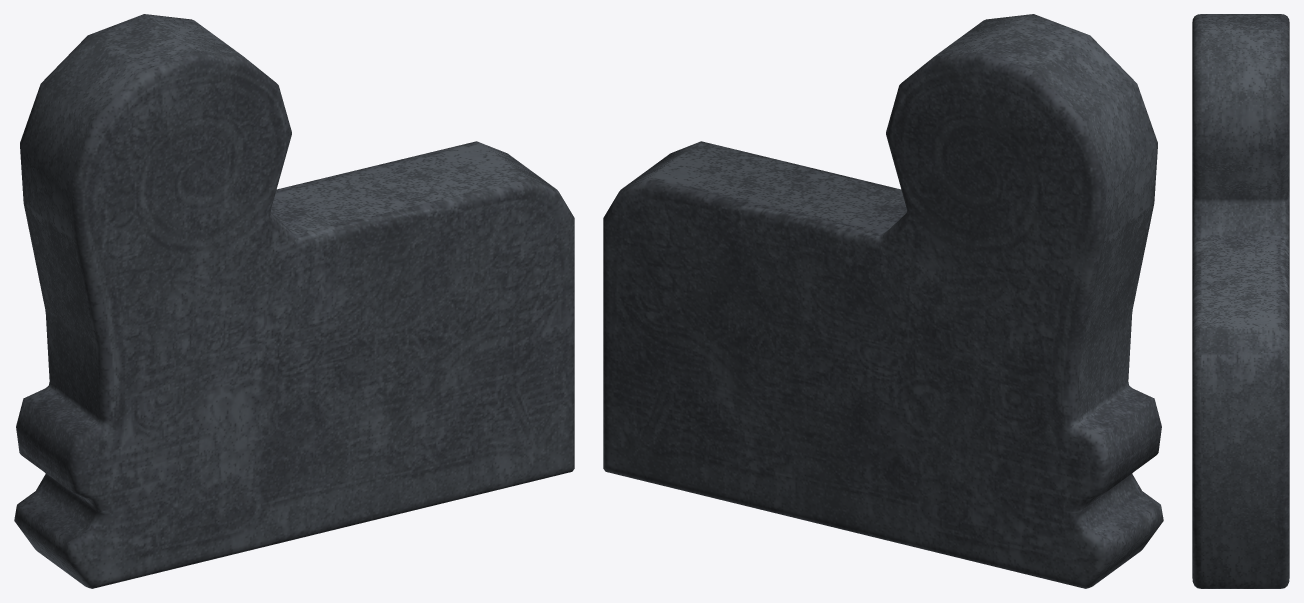
File: SM_Chwidu01b.fbx
3 renders of one model, left to right at view 1: azimuth 30°, elevation 25°; view 2: azimuth 150°, elevation 25°; view 3: azimuth 270°, elevation 25°, orthographic. The views are drawn at different scales.
Parts seen in each view (by area): view 1: SM_Chwidu01b; view 2: SM_Chwidu01b; view 3: SM_Chwidu01b.
Boxes of the visible parts, x1,y1,x2,y2 form: SM_Chwidu01b: (14,14,574,588); SM_Chwidu01b: (603,14,1163,588); SM_Chwidu01b: (1192,14,1289,588).
Size of the model in its own units: 52 by 10.73 by 50.02.
Materials: 1 (1 with a texture image).
